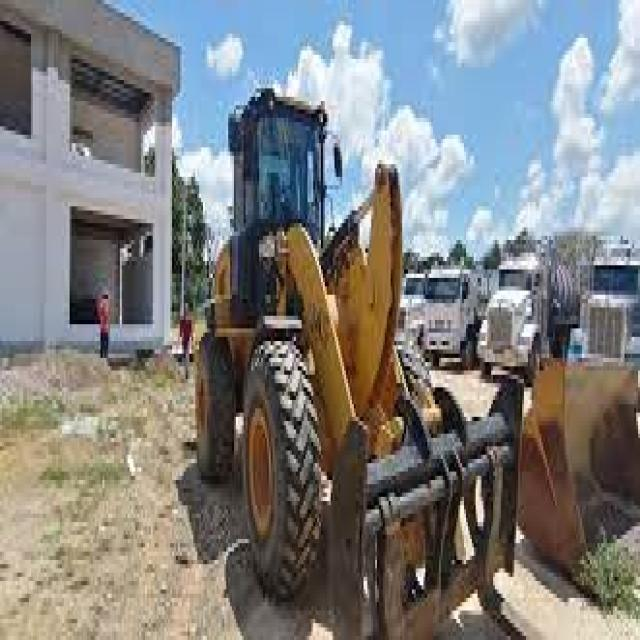buldozerpayloadergrader: (188, 89, 526, 640)
